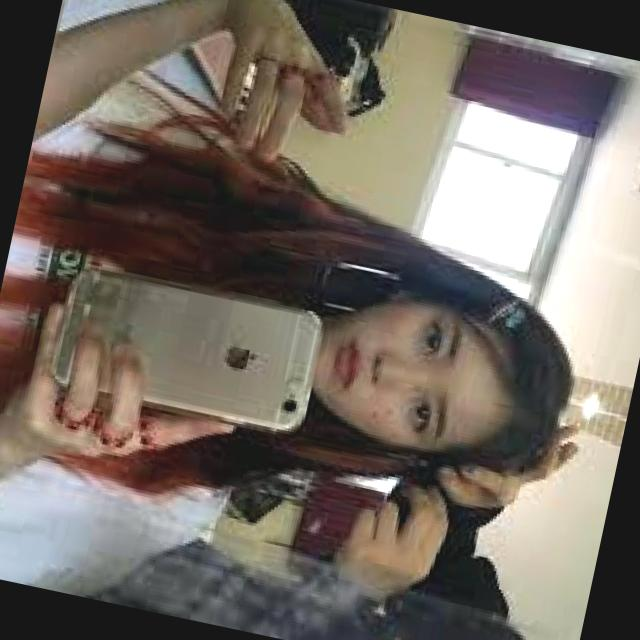lens_back: (276, 394, 300, 418)
phone: (46, 257, 326, 438)
